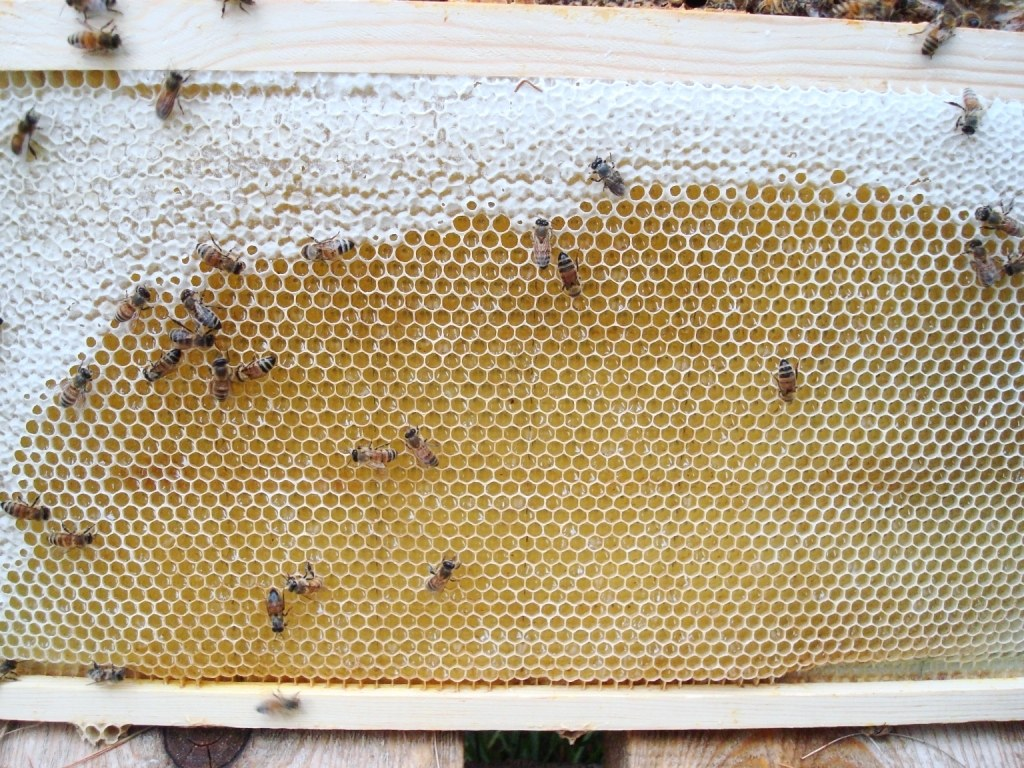bee: (0, 0, 1023, 736), (143, 287, 279, 410), (897, 1, 959, 60), (412, 550, 467, 607), (399, 427, 447, 481), (61, 24, 137, 58), (941, 82, 985, 137), (256, 583, 295, 641), (108, 286, 156, 333), (5, 102, 45, 156), (968, 233, 1004, 292), (969, 194, 1023, 233), (196, 238, 249, 276), (253, 677, 306, 715), (524, 208, 555, 270), (183, 287, 222, 333), (593, 151, 627, 202), (277, 566, 320, 605), (404, 418, 440, 464), (144, 341, 181, 384), (112, 277, 155, 313), (160, 57, 183, 124), (168, 321, 216, 353), (302, 232, 355, 260), (32, 529, 102, 550), (61, 366, 92, 412), (2, 489, 53, 516), (41, 521, 96, 546), (236, 348, 277, 381), (345, 436, 391, 464), (770, 361, 798, 407), (559, 245, 584, 293), (923, 12, 954, 50), (211, 358, 236, 405), (87, 655, 126, 683), (425, 556, 457, 590), (57, 0, 121, 15), (218, 0, 259, 23), (778, 352, 799, 396), (88, 666, 125, 689), (269, 589, 289, 629), (352, 445, 398, 462), (530, 225, 546, 271), (1005, 251, 1023, 282), (838, 3, 864, 19), (0, 657, 14, 675)
insect: (1, 76, 1023, 688)
